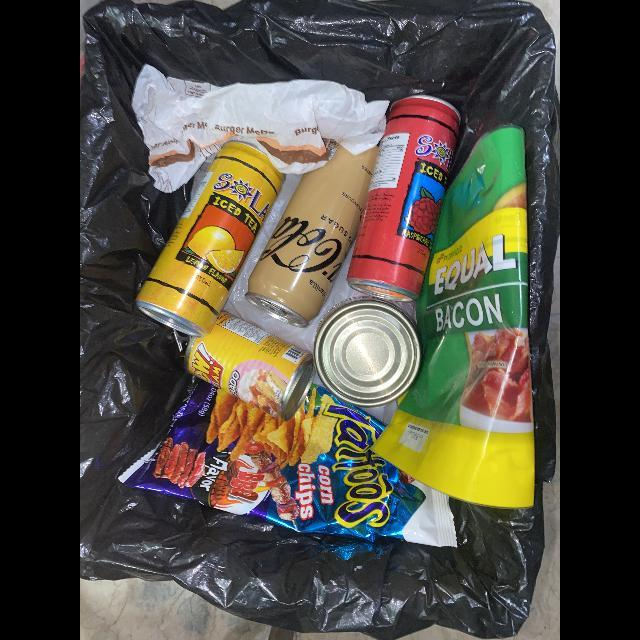metal: (136, 138, 286, 338), (244, 145, 379, 327), (347, 95, 461, 303), (184, 311, 315, 422), (313, 299, 423, 409)
paper: (131, 65, 390, 194)
wrapper: (378, 126, 534, 511), (117, 380, 458, 548)
